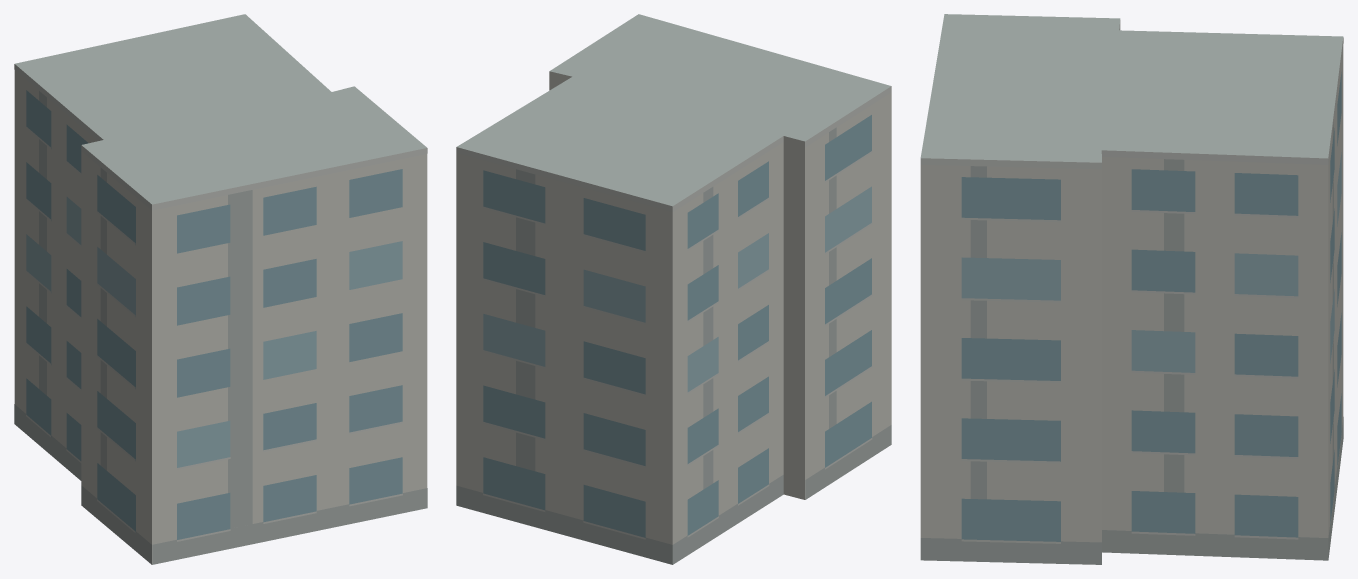
File: survey-upis-32941119.glb
3 views of the same model, side by side, from view 1: azimuth 30°, elevation 25°; view 2: azimuth 150°, elevation 25°; view 3: azimuth 270°, elevation 25° (orthographic). The views are drawn at different scales.
Parts seen in each view (by area): view 1: survey-upis-32941119.tmp; view 2: survey-upis-32941119.tmp; view 3: survey-upis-32941119.tmp.
Part boxes in pixels (x1,y1,x2,y2): survey-upis-32941119.tmp: (14, 14, 427, 564); survey-upis-32941119.tmp: (456, 14, 891, 564); survey-upis-32941119.tmp: (920, 14, 1343, 564).
Bounding box in the file's own units: 11.79 × 14.85 × 14.16.
